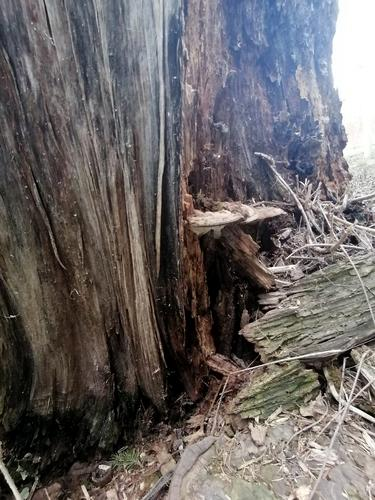Ganoderma - Fruit Body: (186, 192, 283, 238)
